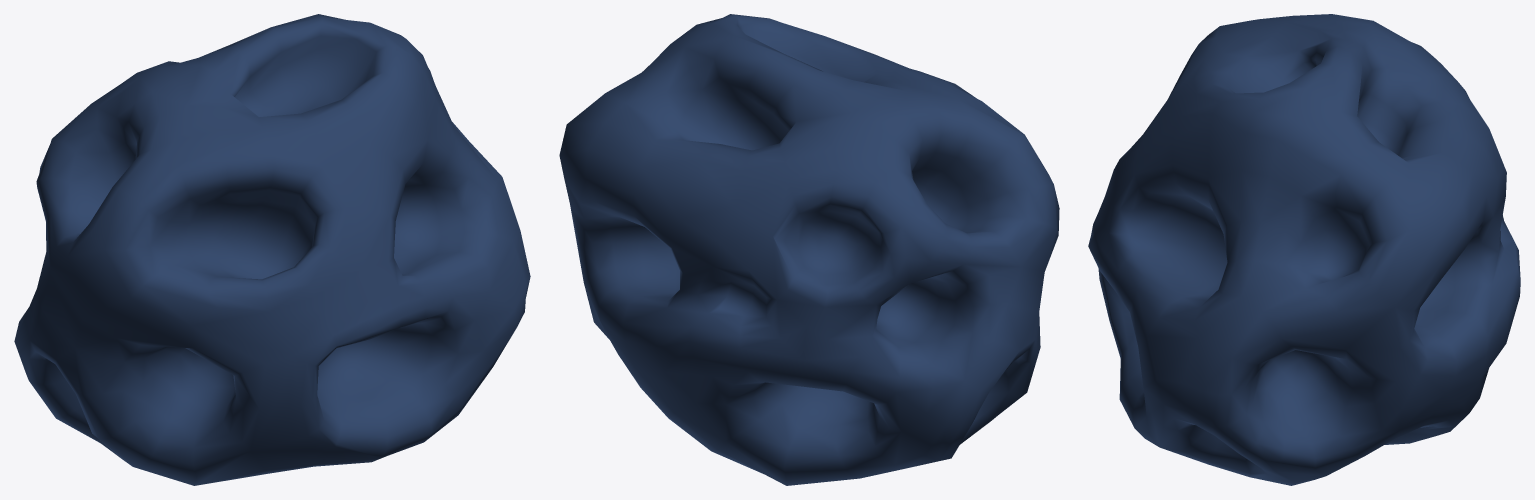
File: spoung_1.fbx
The picture shows the model from 3 angles, left to right: view 1: azimuth 30°, elevation 25°; view 2: azimuth 150°, elevation 25°; view 3: azimuth 270°, elevation 25°; orthographic projection. The views are drawn at different scales.
Parts seen in each view (by area): view 1: coral_spoung_1_retop; view 2: coral_spoung_1_retop; view 3: coral_spoung_1_retop.
Boxes of the visible parts, <box> form: coral_spoung_1_retop: <box>14,14,530,485</box>; coral_spoung_1_retop: <box>559,14,1059,485</box>; coral_spoung_1_retop: <box>1088,14,1520,485</box>.
Size of the model in its own units: 90.87 by 81 by 74.83.
